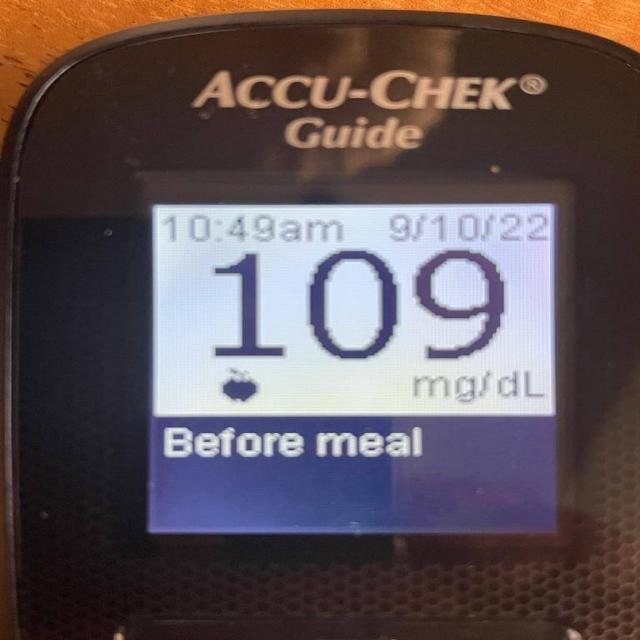gluco: (0, 8, 639, 639)
